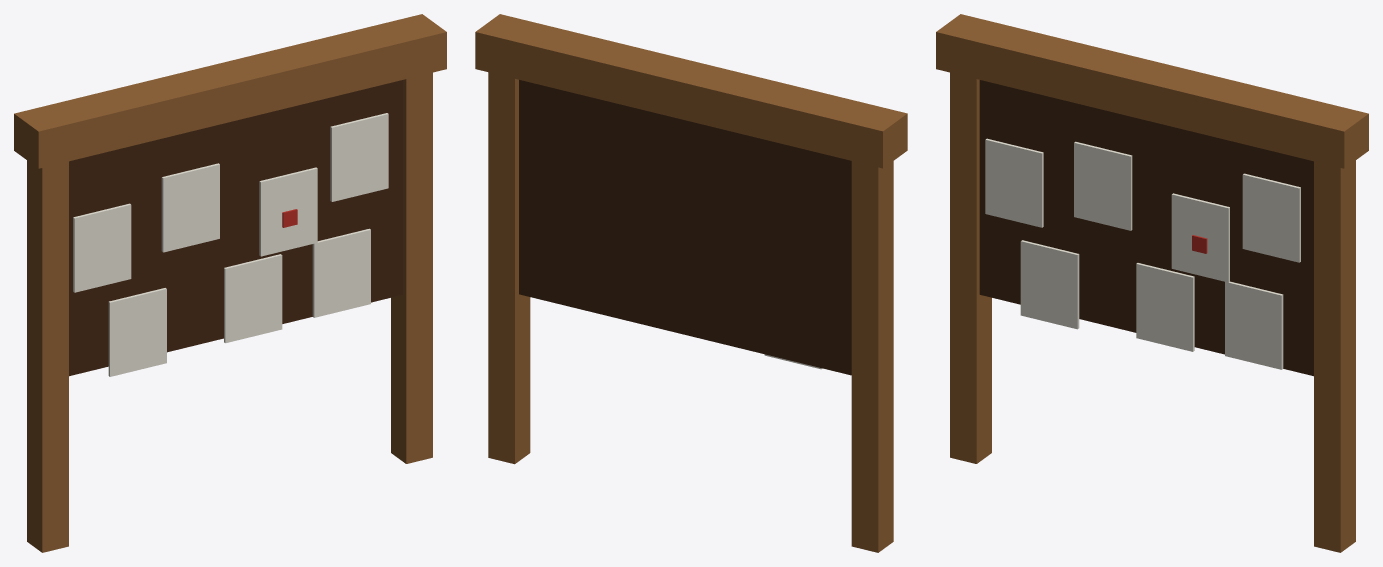
The model's file is camp_board.glb.
3 renders of one model, left to right at view 1: azimuth 30°, elevation 25°; view 2: azimuth 150°, elevation 25°; view 3: azimuth 330°, elevation 25°, orthographic.
Parts seen in each view (by area): view 1: camp_board; view 2: camp_board; view 3: camp_board.
Part boxes in pixels (box(x1,y1,x2,y2)): camp_board: box(14, 14, 446, 552); camp_board: box(475, 14, 907, 552); camp_board: box(936, 14, 1368, 552).
Size of the model in its own units: 2.3 by 2.3 by 0.24.
Materials: 1 (1 with a texture image).
